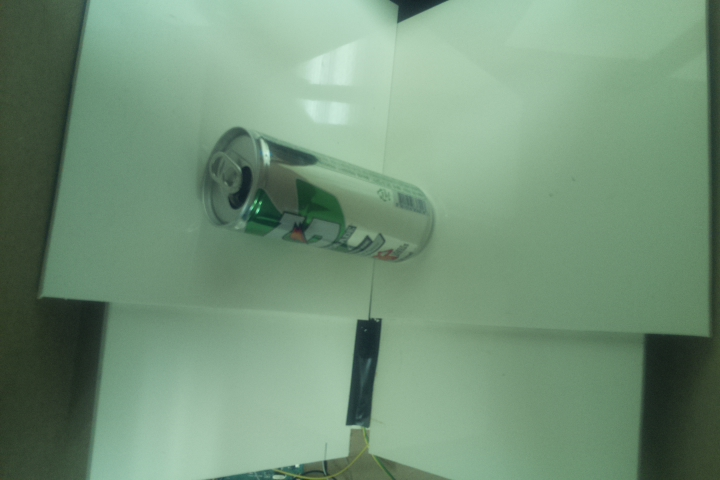can: (197, 122, 435, 264)
